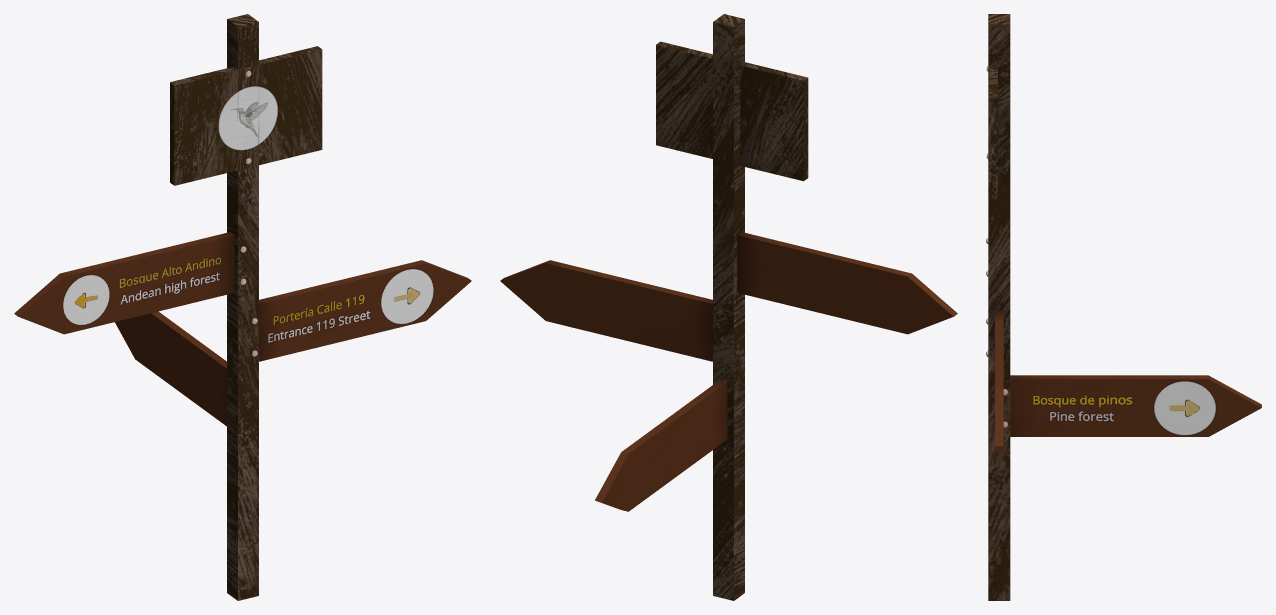
File: letrero-indicaciones.glb
The picture shows the model from 3 angles, left to right: view 1: azimuth 30°, elevation 25°; view 2: azimuth 150°, elevation 25°; view 3: azimuth 270°, elevation 25°; orthographic projection.
Visible parts, largest first — view 1: Mesh_0; view 2: Mesh_0; view 3: Mesh_0.
Part boxes in pixels (<box>): Mesh_0: <box>14,14,471,600</box>; Mesh_0: <box>500,14,957,600</box>; Mesh_0: <box>986,14,1261,600</box>.
Bounding box in the file's own units: 13.8 × 16.69 × 7.23.
6 materials, 6 textured.
